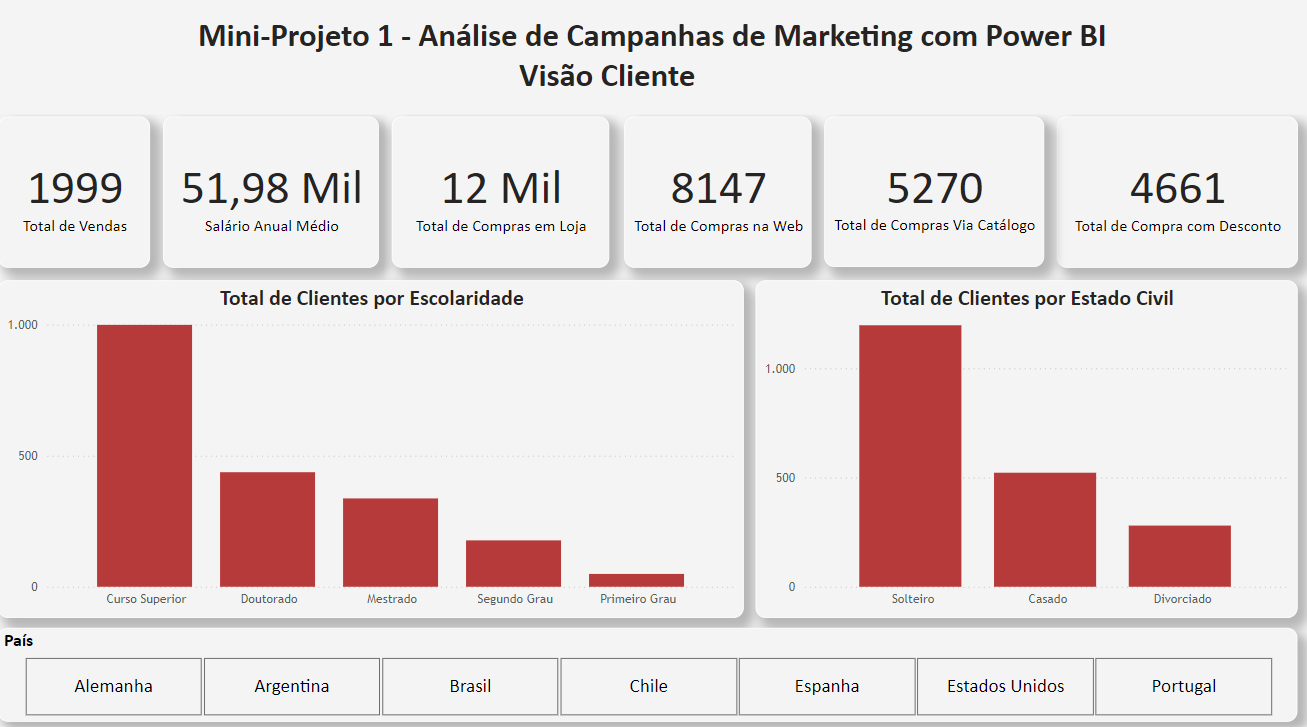

Layout of this report page (visuals, bound fields, positions):
{"tool":"powerbi","page":{"name":"Visão Cliente","canvas":[1280,720],"ordinal":0},"visuals":[{"type":"card","fields":{"Values":["CountNonNull(superstore_data.Id)"]},"box":[3.6,131.5,165.2,125.4],"z":0},{"type":"card","fields":{"Values":["Avg(superstore_data.Income)"]},"box":[172.5,131.5,230.4,125.4],"z":1000},{"type":"card","fields":{"Values":["Sum(superstore_data.NumCatalogPurchases)"]},"box":[833.7,131.4,214,125.6],"z":2000},{"type":"card","fields":{"Values":["Sum(superstore_data.NumWebPurchases)"]},"box":[624.7,131.5,205,125.4],"z":3000},{"type":"card","fields":{"Values":["Sum(superstore_data.NumDealsPurchases)"]},"box":[1051.2,131.4,225.6,125.6],"z":4000},{"type":"columnChart","title":"Total de Clientes por Escolaridade","fields":{"Y":["CountNonNull(superstore_data.Id)"],"Category":["superstore_data.Education"]},"box":[3.6,267.7,617.5,302.7],"z":5000},{"type":"columnChart","title":"Total de Clientes por Estado Civil","fields":{"Y":["CountNonNull(superstore_data.Id)"],"Category":["superstore_data.Marital_Status"]},"box":[624.7,267.7,651.3,302.7],"z":6000},{"type":"card","fields":{"Values":["Sum(superstore_data.NumStorePurchases)"]},"box":[406.4,131.5,214.7,125.4],"z":7000},{"type":"slicer","fields":{"Values":["superstore_data.Dt_Customer"]},"box":[3.6,581.3,1272.4,127.8],"z":8000},{"type":"textbox","box":[3.6,0,1272.4,120.6],"z":9000}]}

Visuals, with their boxes in screenshot pixels (x1, y1, x2, y2), scaled from the page's 1280x720 canvas onto the 1307x727 screenshot:
card - CountNonNull(superstore_data.Id): <region>4, 133, 172, 259</region>
card - Avg(superstore_data.Income): <region>176, 133, 411, 259</region>
card - Sum(superstore_data.NumCatalogPurchases): <region>851, 133, 1070, 259</region>
card - Sum(superstore_data.NumWebPurchases): <region>638, 133, 847, 259</region>
card - Sum(superstore_data.NumDealsPurchases): <region>1073, 133, 1304, 259</region>
"Total de Clientes por Escolaridade" columnChart: <region>4, 270, 634, 576</region>
"Total de Clientes por Estado Civil" columnChart: <region>638, 270, 1303, 576</region>
card - Sum(superstore_data.NumStorePurchases): <region>415, 133, 634, 259</region>
slicer - superstore_data.Dt_Customer: <region>4, 587, 1303, 716</region>
textbox: <region>4, 0, 1303, 122</region>
